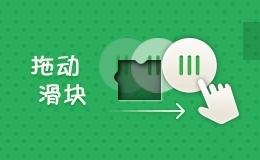target: (96, 40, 140, 80)
